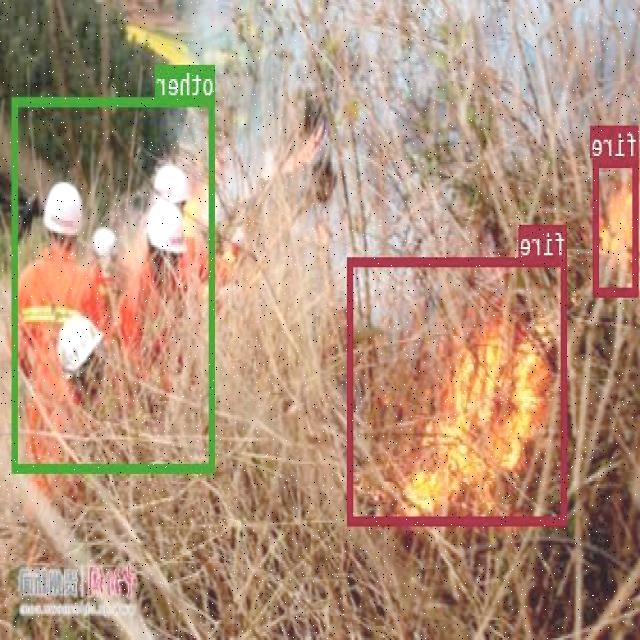fire: (350, 256, 568, 524), (594, 157, 639, 296)
